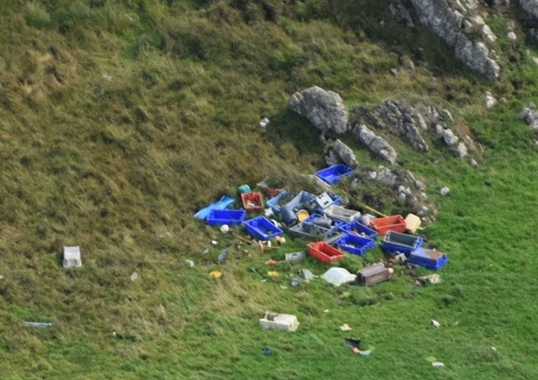scattered_barrel: (323, 304, 452, 373)
together_barrel: (188, 160, 454, 294)
white_in_green: (236, 289, 312, 349), (39, 228, 103, 283)
